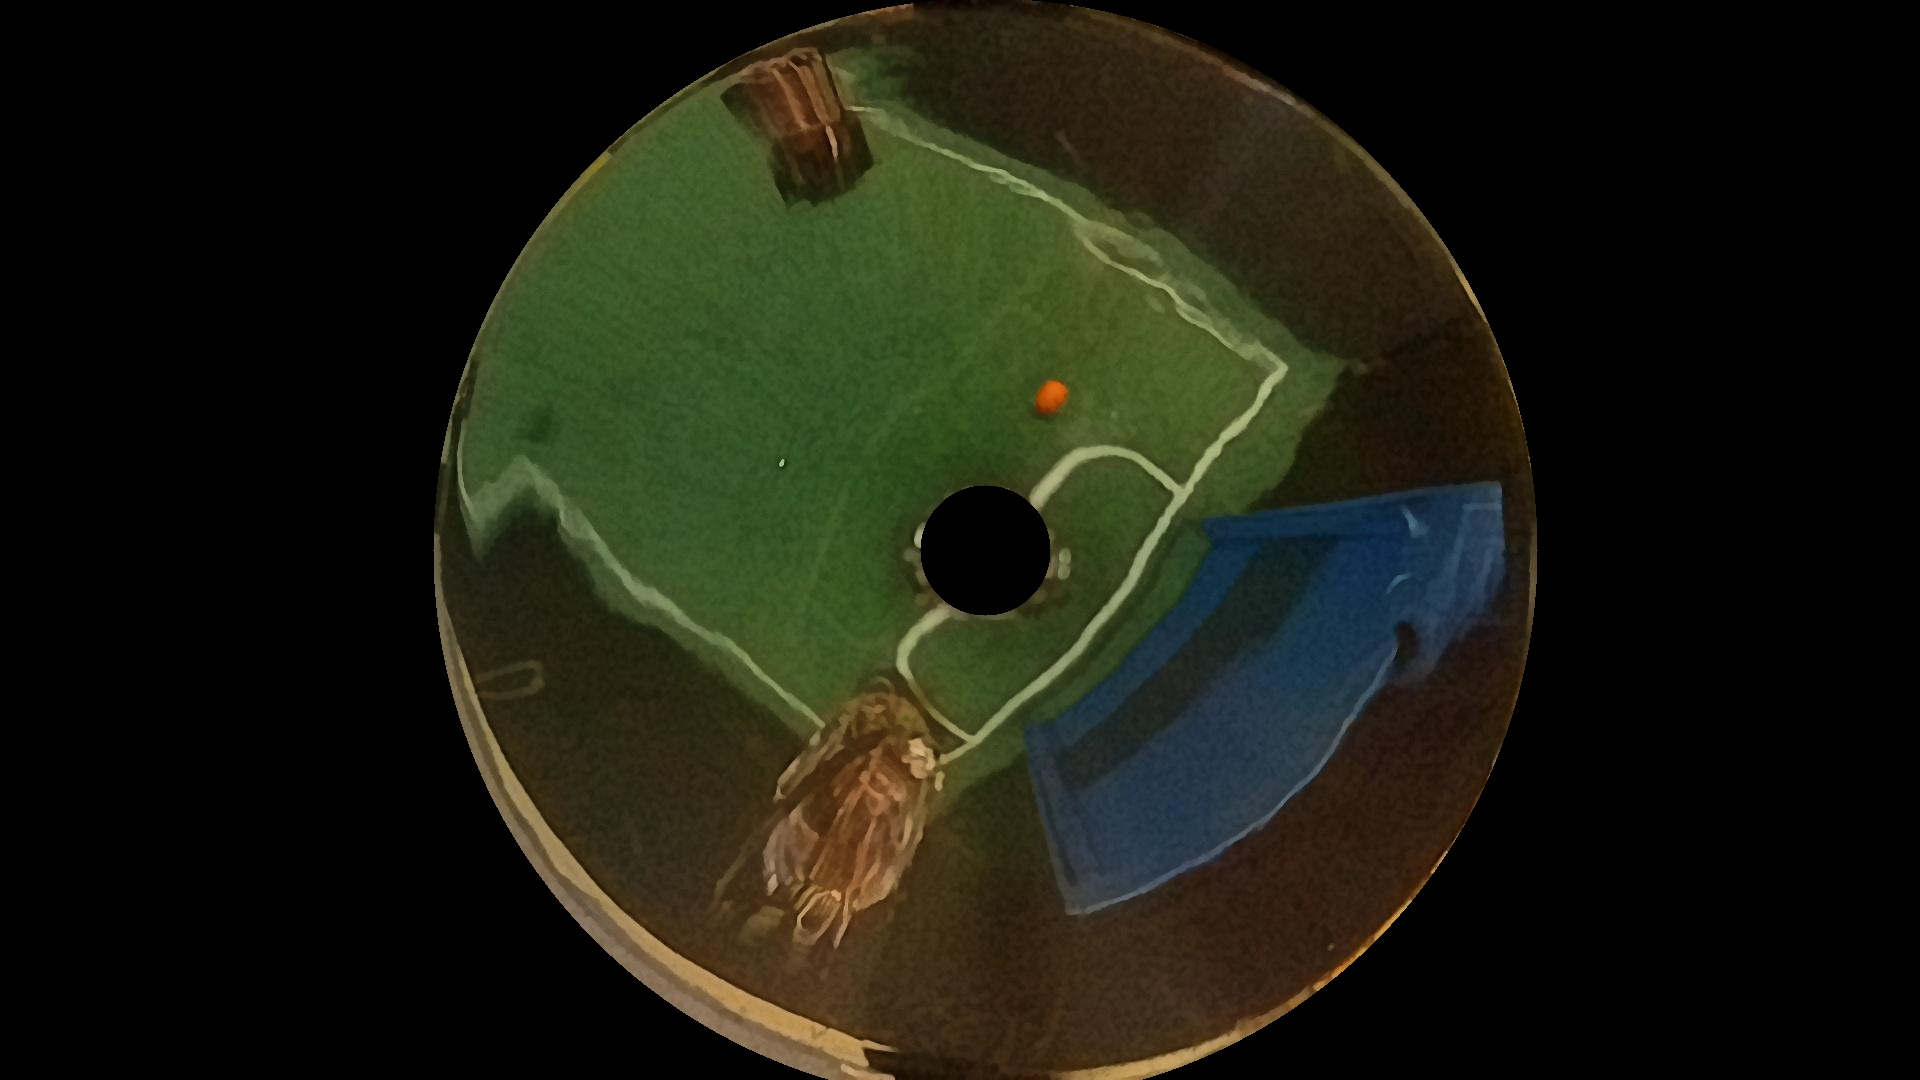ball: (1031, 373, 1076, 413)
blue-goal: (1069, 508, 1458, 878)
robots: (709, 663, 948, 949), (721, 57, 882, 196)
